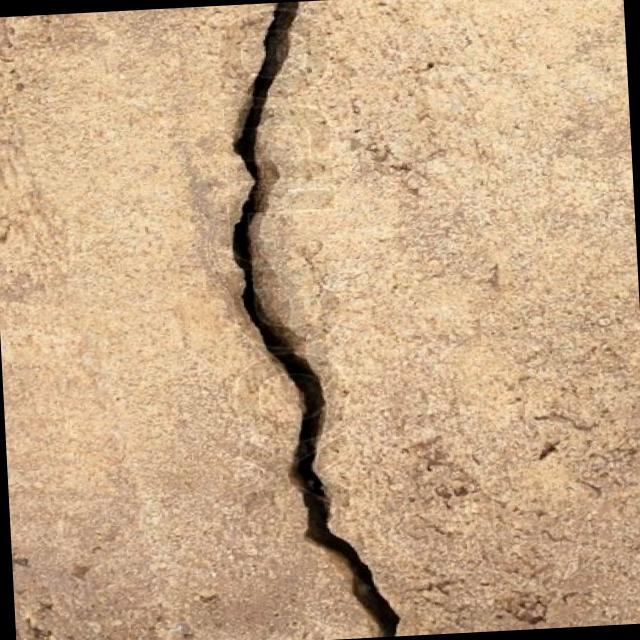crack: (216, 0, 402, 640)
